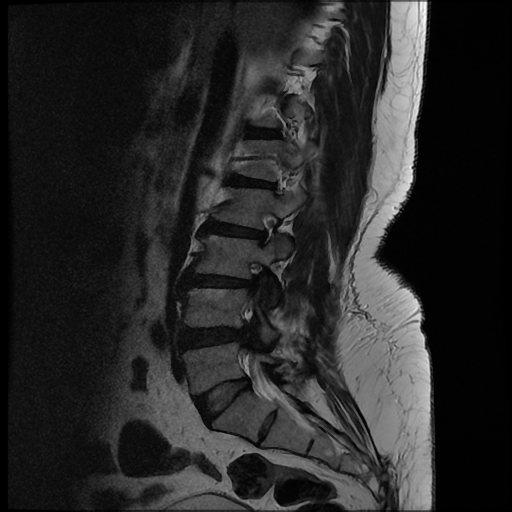RFS0: (245, 207, 284, 257)
